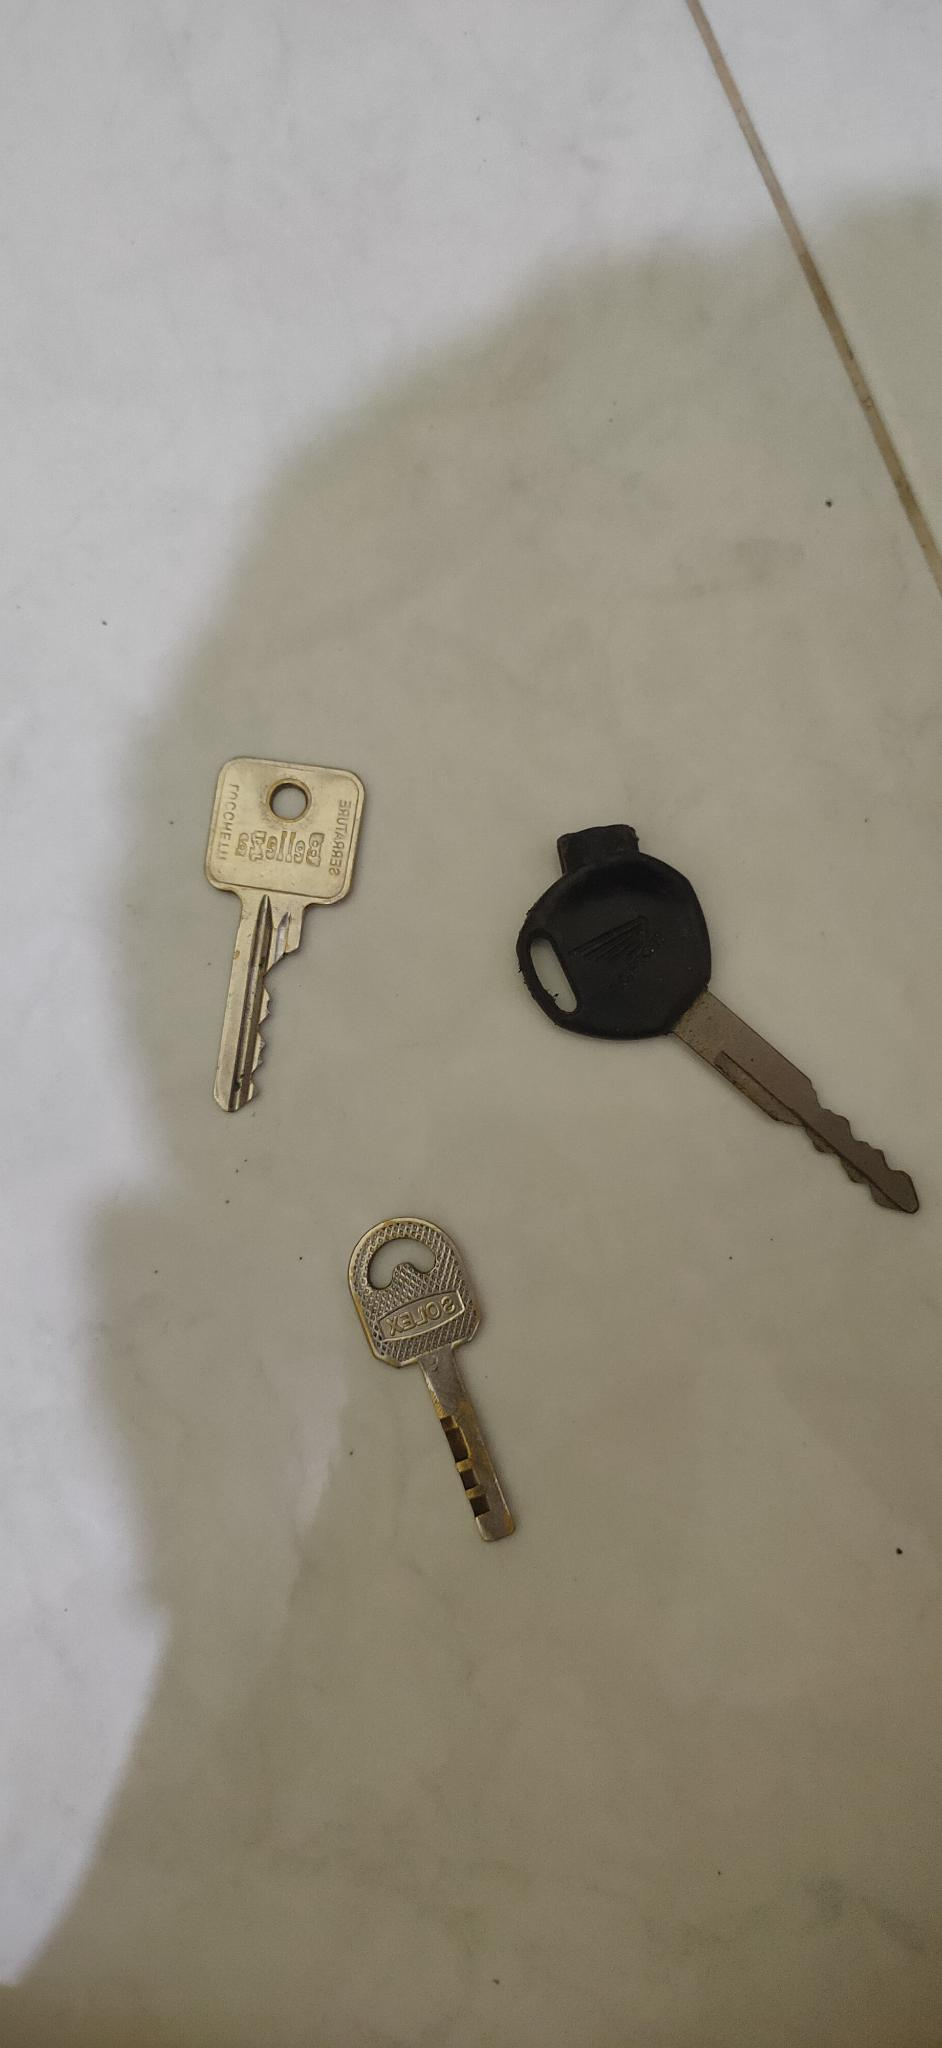keys: (490, 805, 935, 1240), (169, 733, 378, 1142), (327, 1178, 537, 1566)
